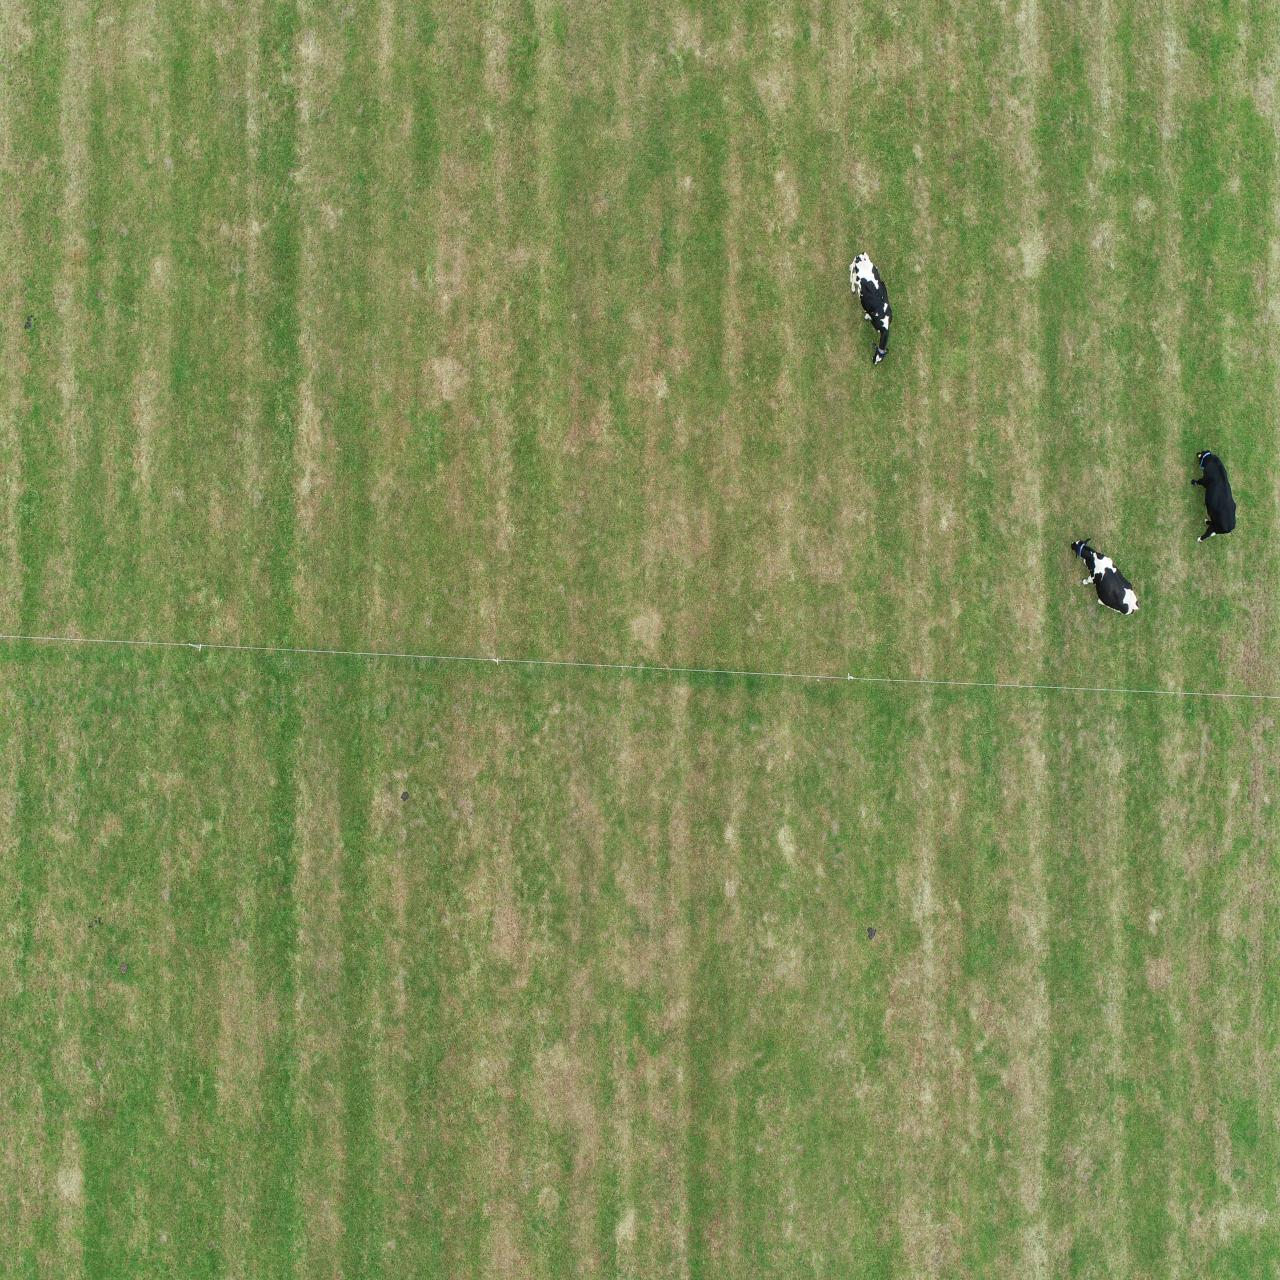cow: (1230, 1121, 1251, 1176)
